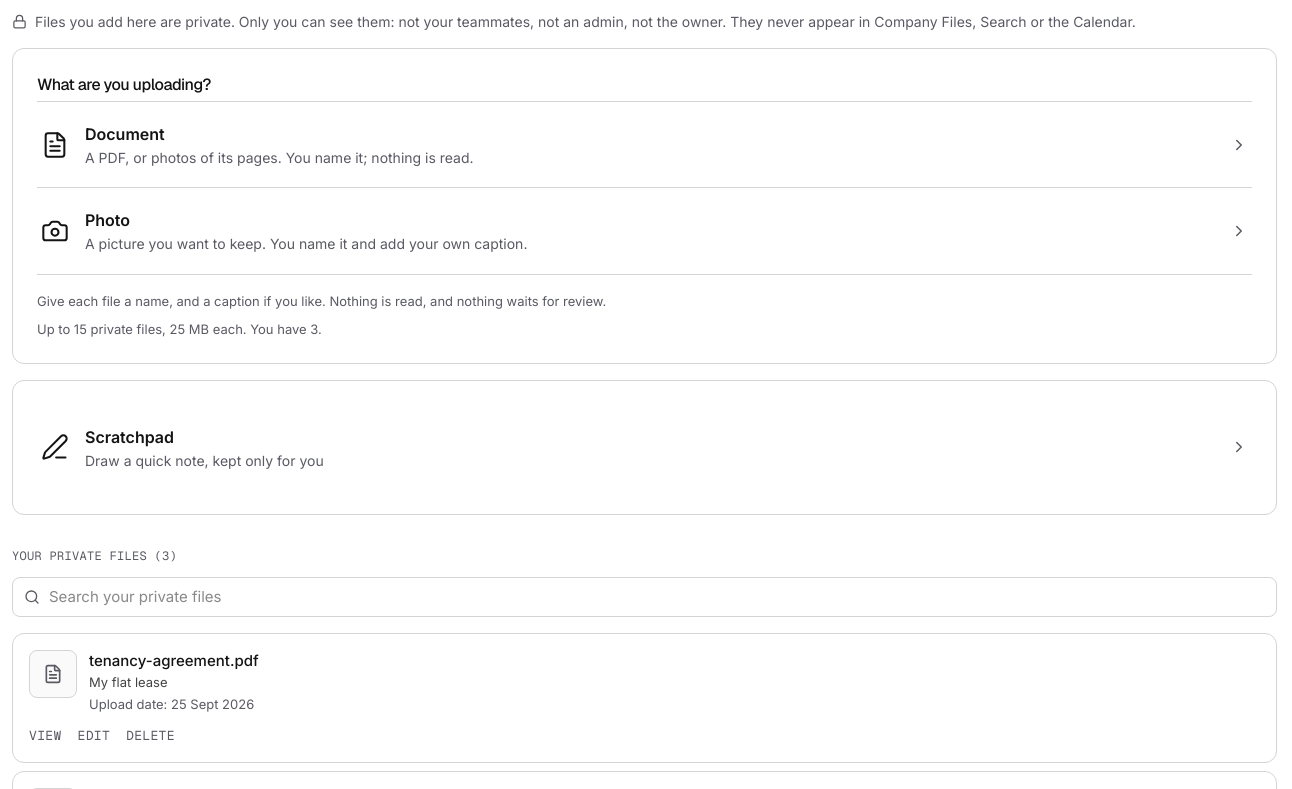
it: Only me: the scoped search › matches a word in the name or the caption, and needs every word
The image size is (1292, 789).
Expected: the text "My flat lease" is shown, [89,674,168,690]
Type "clinic receipt" into the search field labelled "Search your private files" at (644, 597), box [12,577,1277,617]
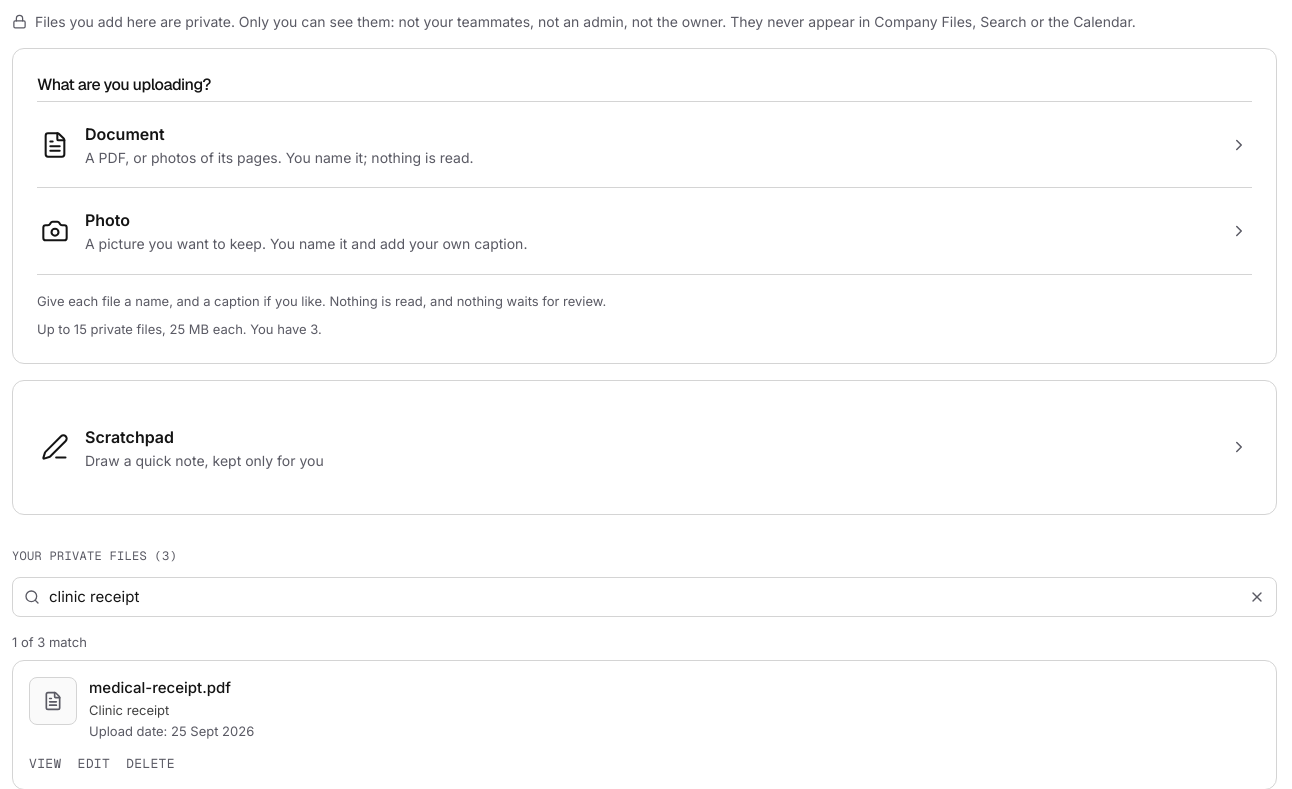
Expected: the text "Clinic receipt" is shown, [89,702,169,718]
Replace the text in the search field named "Search your private files" with "clinic lease" at (644, 597), box [12,577,1277,617]
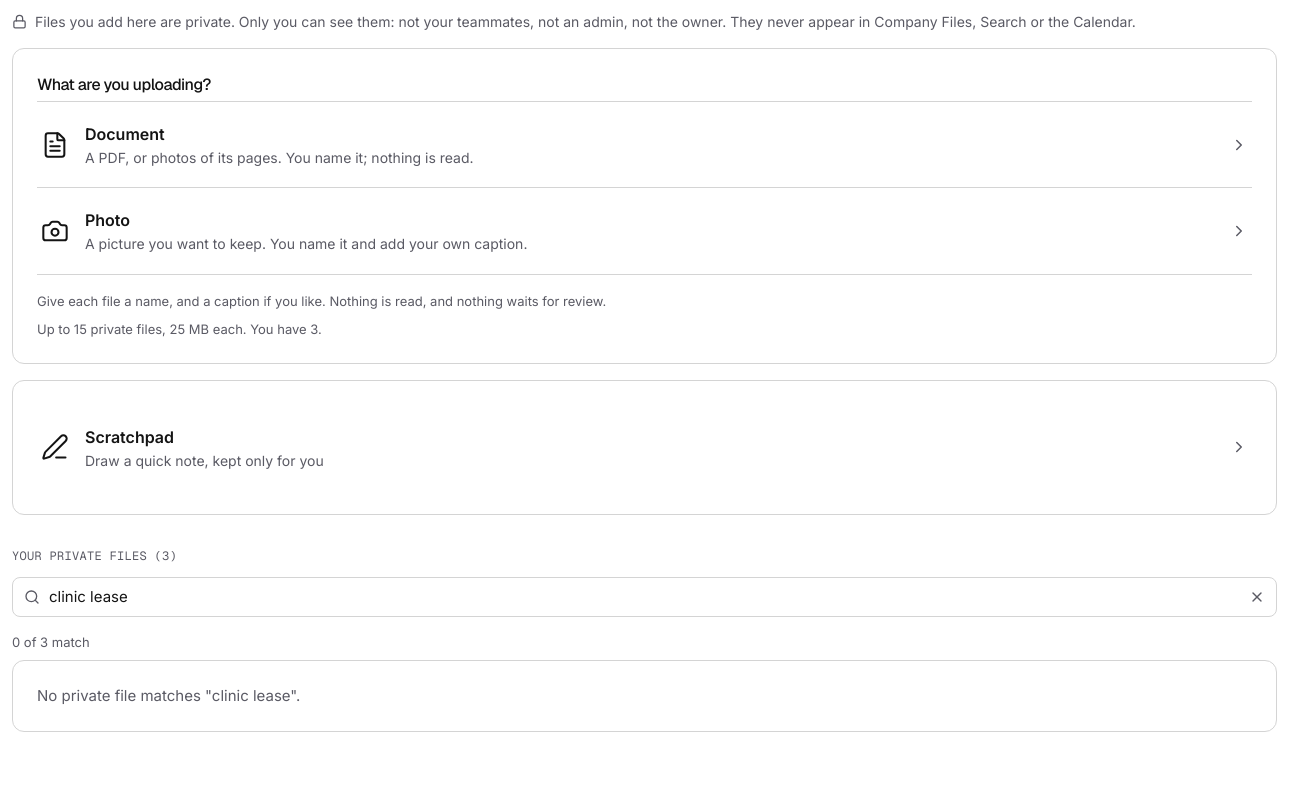
Now the text "Clinic receipt" is gone
